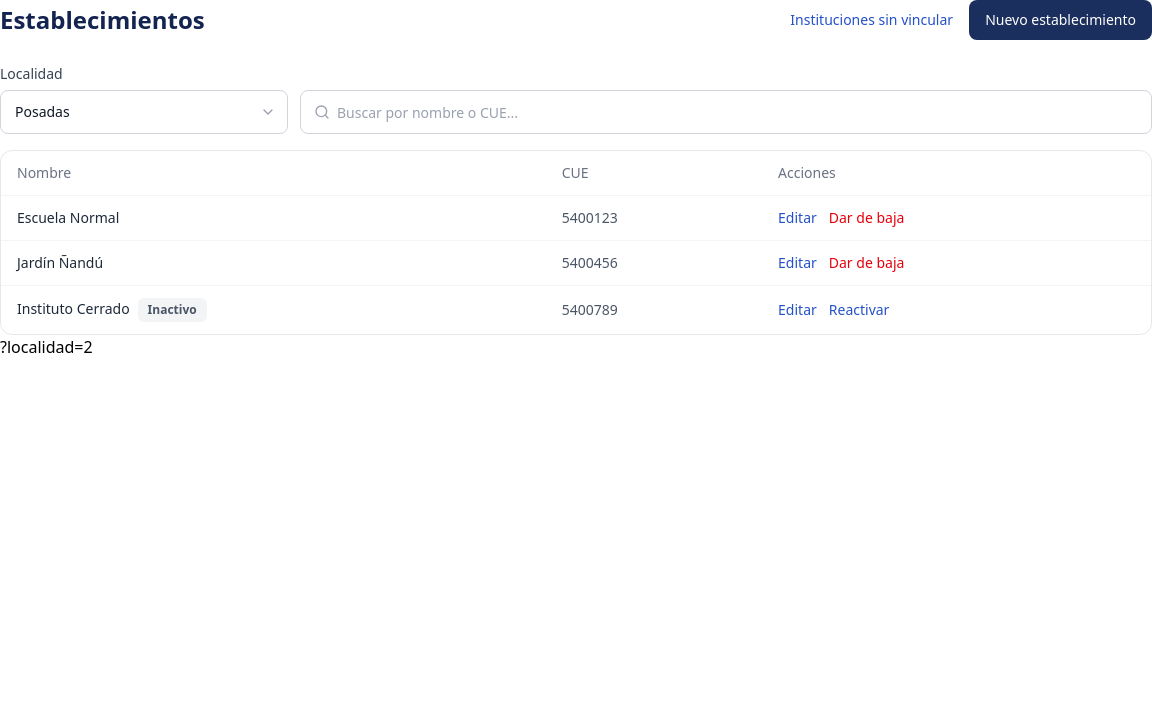
EstablecimientosPage: baja y reactivación (criterio 7) › "Dar de baja" pide confirmación y no cambia nada hasta confirmar
Click the button "Dar de baja" in the row of "Escuela Normal" at coordinates (867, 218), box [829,208,904,228]
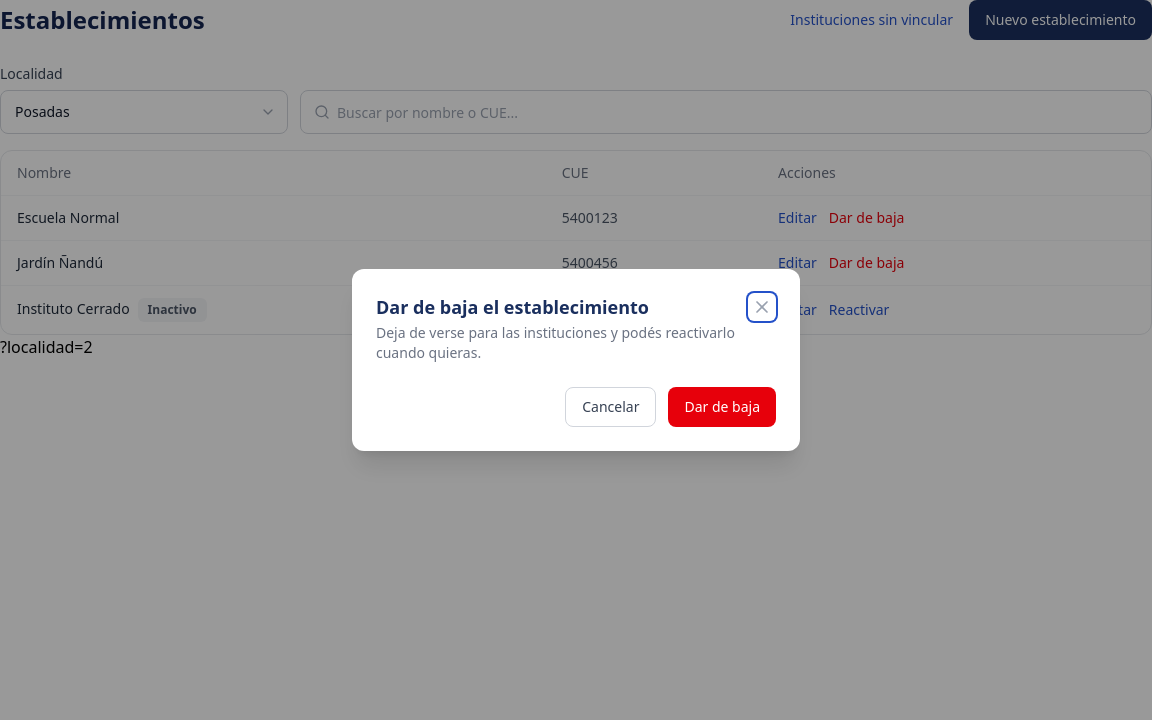
Expected: the dialog is shown, [352,269,800,451]
